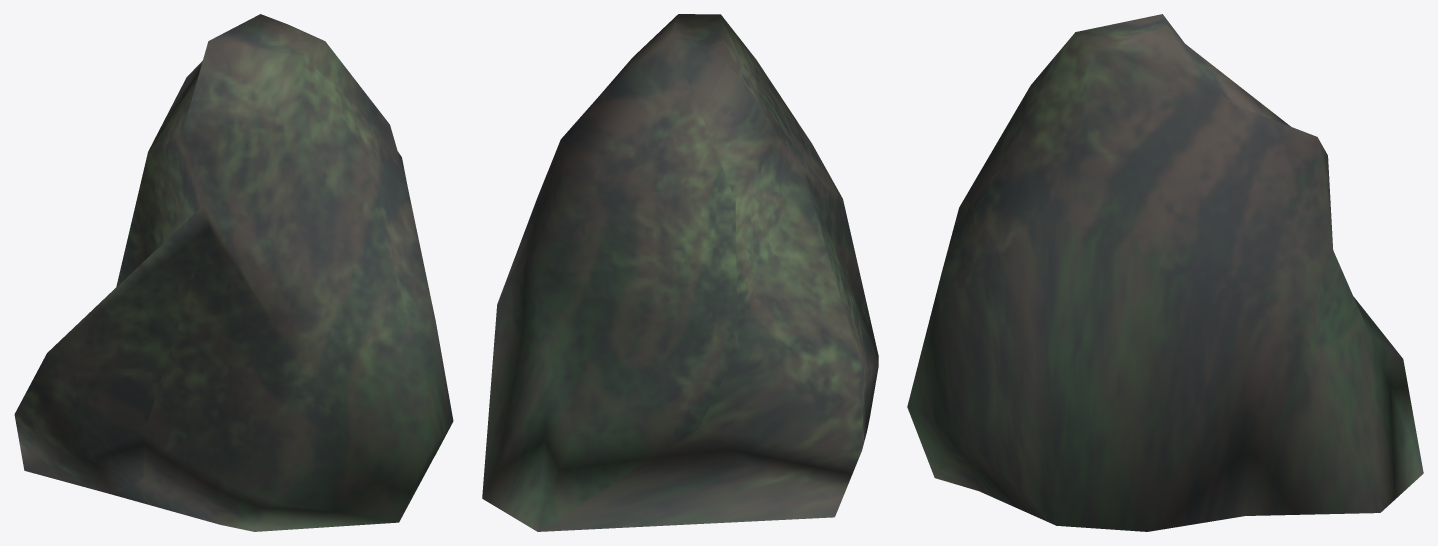
The model's file is S_rock.fbx.
The picture shows the model from 3 angles, left to right: view 1: azimuth 30°, elevation 25°; view 2: azimuth 150°, elevation 25°; view 3: azimuth 270°, elevation 25°; orthographic projection. The views are drawn at different scales.
Parts seen in each view (by area): view 1: R_rock_low1; view 2: R_rock_low1; view 3: R_rock_low1.
Part boxes in pixels (left/top/right/bottom): R_rock_low1: left=14, top=14, right=453, bottom=531; R_rock_low1: left=482, top=14, right=878, bottom=531; R_rock_low1: left=907, top=14, right=1423, bottom=531.
Bounding box in the file's own units: 0.0143 × 0.0165 × 0.0177.
1 material, 1 textured.
